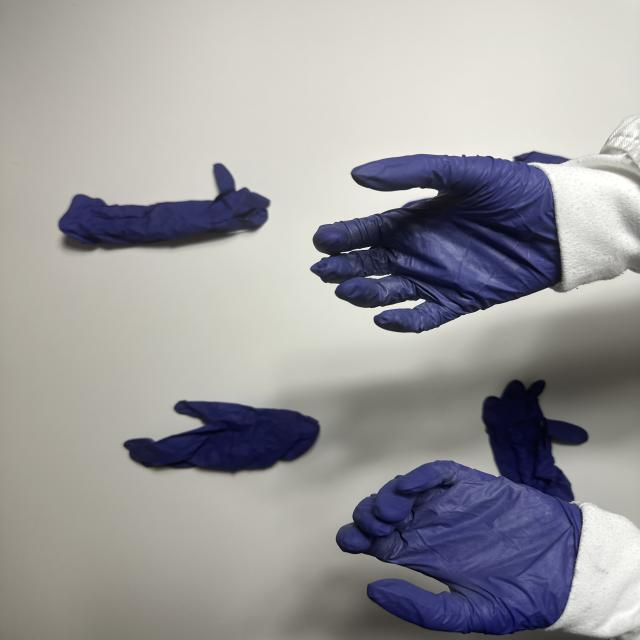gloves_contaminated: (312, 155, 560, 333), (336, 461, 582, 634)
